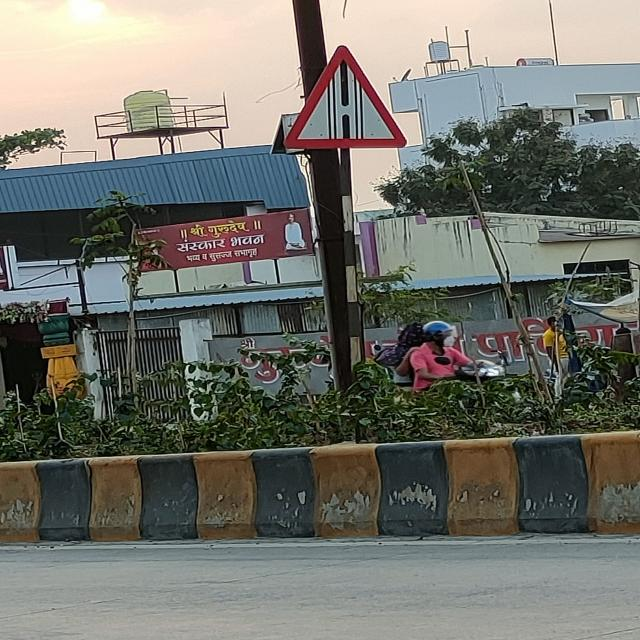ferry: (280, 47, 410, 149)
